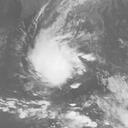cyclone: (28, 37, 78, 85)
